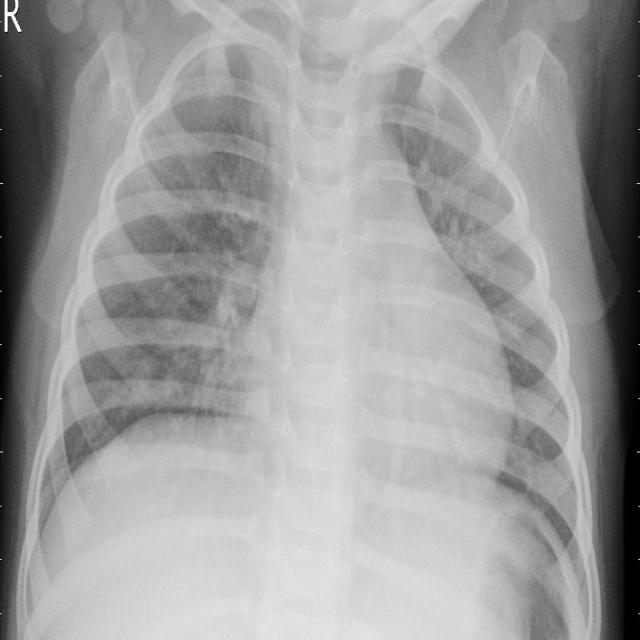low-pneumonia: (193, 242, 257, 429), (415, 165, 494, 284), (244, 32, 286, 169)
